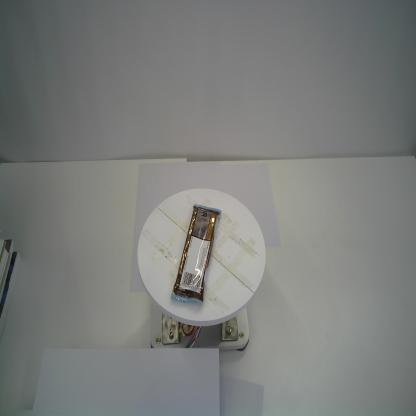Chocolate: (170, 203, 222, 305)
